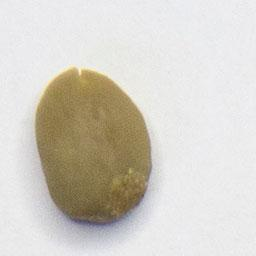premium: (32, 60, 158, 228)
